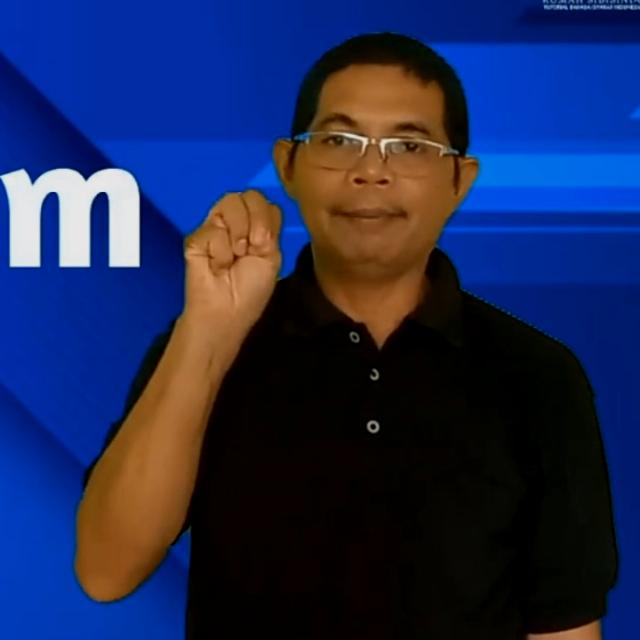M: (182, 190, 282, 318)
